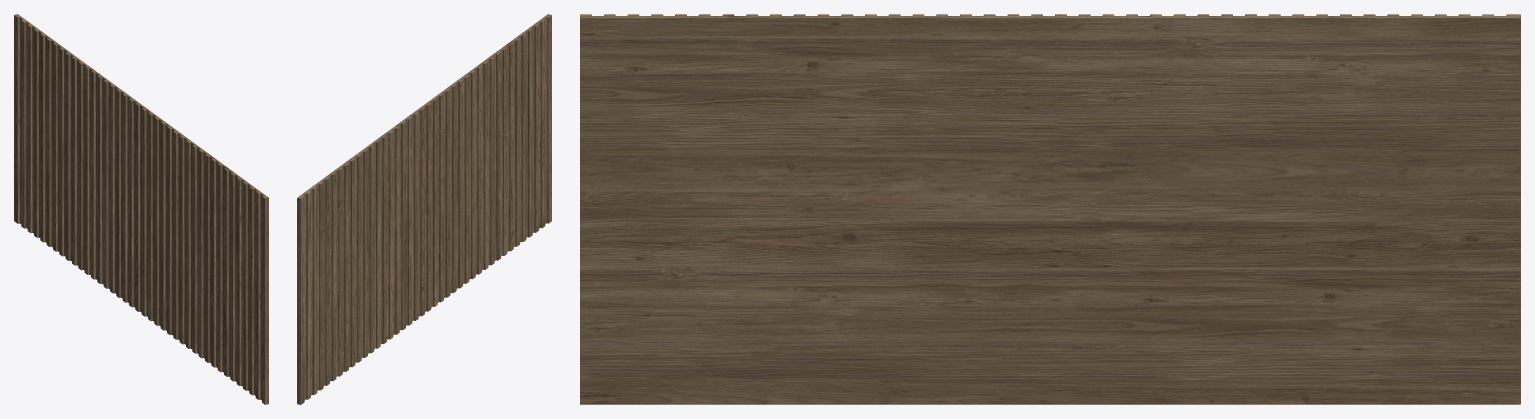
The model's file is rackFlowersDefoult6.gltf.
3 views of the same model, side by side, from view 1: azimuth 30°, elevation 25°; view 2: azimuth 150°, elevation 25°; view 3: azimuth 270°, elevation 25° (orthographic). The views are drawn at different scales.
Parts seen in each view (by area): view 1: rackFlowersDefoult6; view 2: rackFlowersDefoult6; view 3: rackFlowersDefoult6.
Boxes of the visible parts, bbox=[...] form: rackFlowersDefoult6: bbox=[14, 14, 268, 404]; rackFlowersDefoult6: bbox=[297, 14, 551, 404]; rackFlowersDefoult6: bbox=[580, 14, 1520, 404].
Bounding box in the file's own units: 0.072 × 3.6 × 7.92.
1 material, 1 textured.
